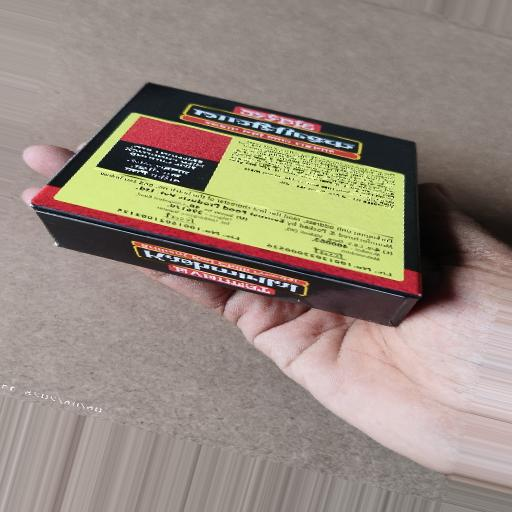Everest Kashmirilal: (21, 37, 444, 364)
